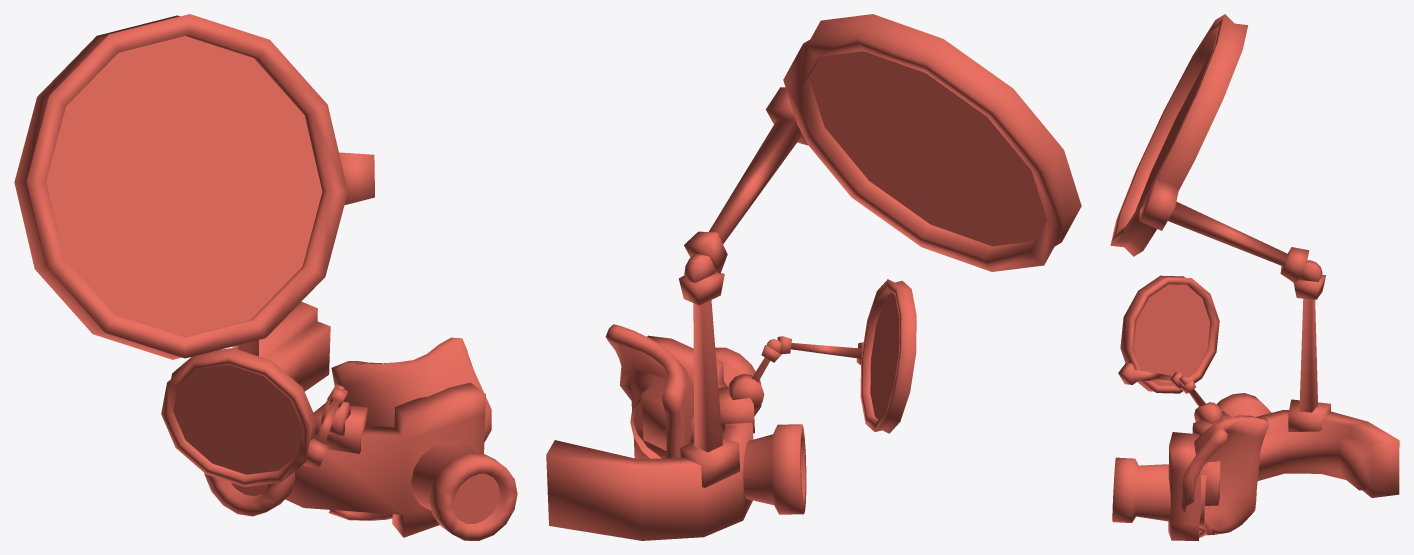
Rendered from medic_p3.fbx.
3 views of the same model, side by side, from view 1: azimuth 30°, elevation 25°; view 2: azimuth 150°, elevation 25°; view 3: azimuth 270°, elevation 25° (orthographic). The views are drawn at different scales.
Visible parts, largest first — view 1: headMetal_low.018; view 2: headMetal_low.018; view 3: headMetal_low.018.
Part boxes in pixels (x1=…): headMetal_low.018: x1=14, y1=14, x2=517, y2=540; headMetal_low.018: x1=546, y1=14, x2=1081, y2=540; headMetal_low.018: x1=1110, y1=14, x2=1399, y2=540.
Size of the model in its own units: 45.44 by 52.62 by 32.76.
